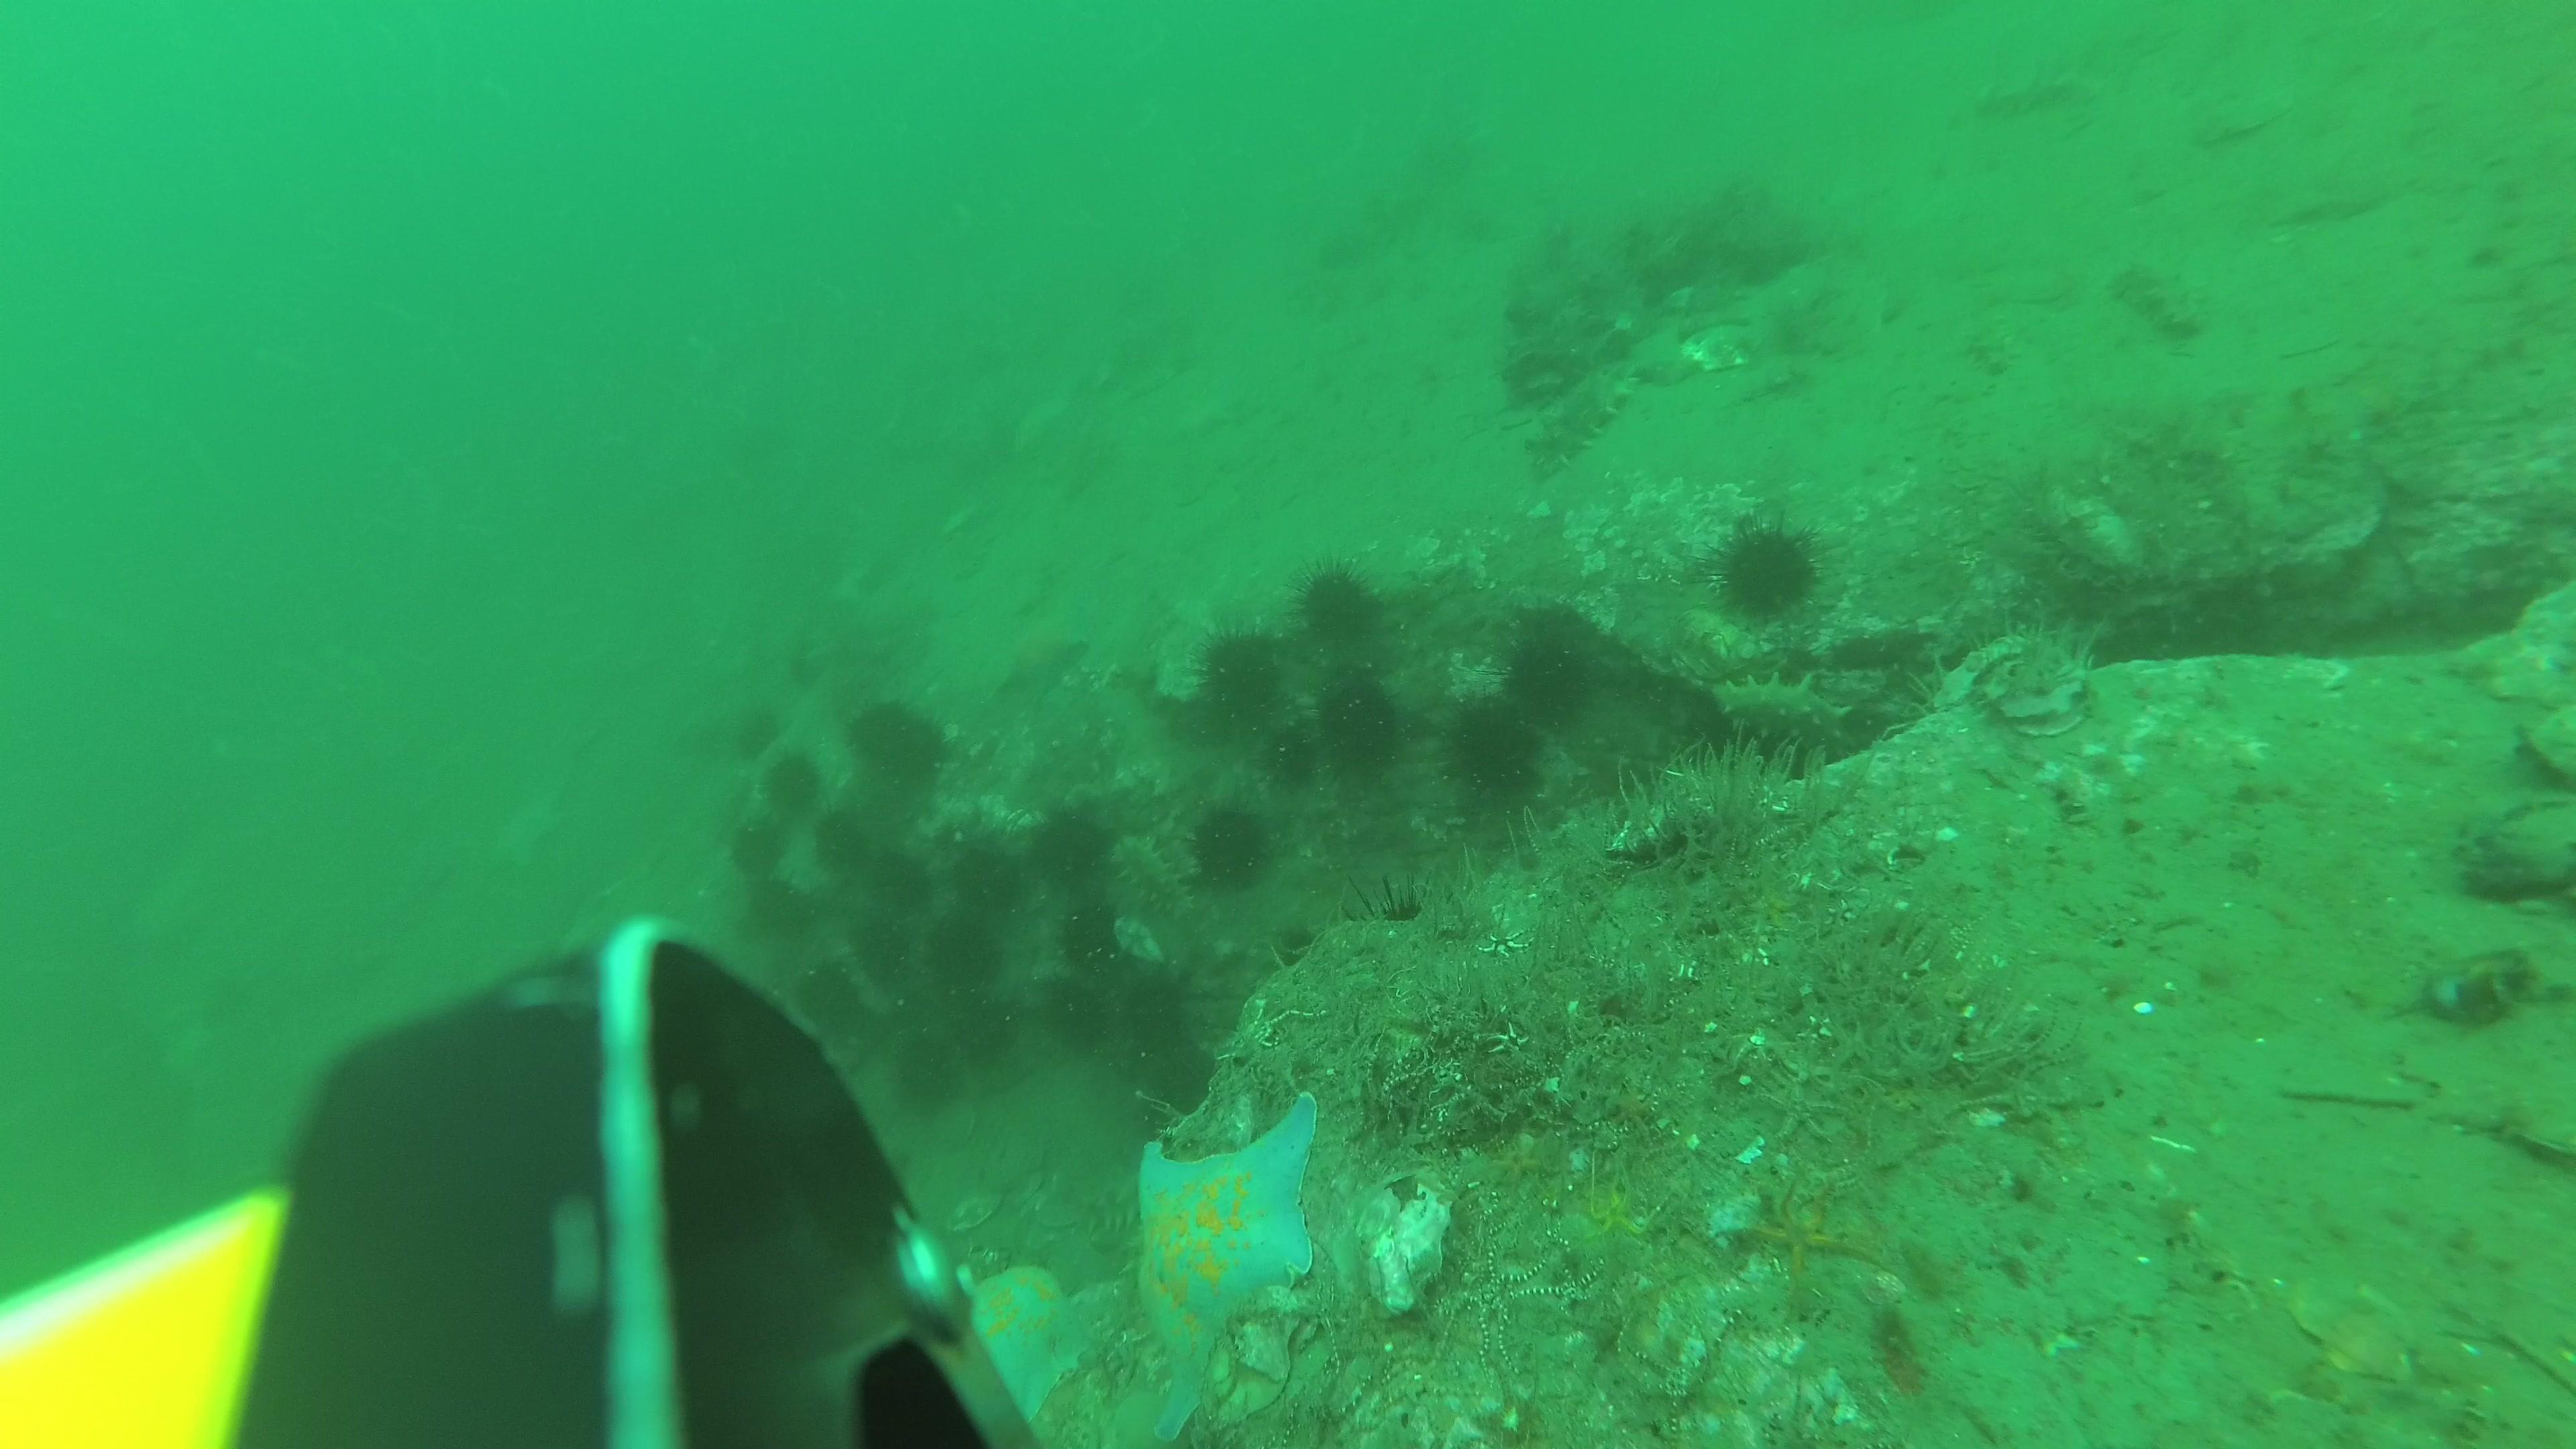echinus: (1709, 511, 1826, 633), (1438, 692, 1543, 812), (1350, 881, 1451, 978), (1198, 628, 1290, 734), (1315, 669, 1407, 773), (1506, 635, 1594, 732), (1292, 556, 1376, 656), (1108, 970, 1191, 1063), (1141, 1049, 1219, 1131), (925, 911, 1000, 996), (1194, 801, 1269, 885), (1033, 809, 1108, 888), (1040, 975, 1115, 1054), (798, 966, 870, 1040), (947, 994, 1019, 1065), (955, 839, 1021, 913), (892, 1035, 950, 1118), (1260, 727, 1325, 796), (761, 747, 816, 826), (853, 913, 908, 993), (1054, 897, 1113, 970), (846, 699, 908, 761), (892, 722, 950, 782), (1277, 927, 1336, 987), (878, 847, 932, 911), (752, 876, 801, 941), (819, 805, 867, 872), (727, 821, 780, 876), (731, 709, 777, 763)
holothurian: (1707, 672, 1856, 775), (1532, 357, 1642, 485), (2109, 255, 2204, 341), (1111, 833, 1203, 918), (1088, 1169, 1189, 1240), (1982, 69, 2093, 122), (1960, 320, 2013, 380)
scallop: (2293, 1274, 2419, 1382), (2212, 80, 2305, 143), (1683, 320, 1766, 375), (931, 1192, 1001, 1244), (927, 1099, 977, 1157)
starfish: (1139, 1083, 1322, 1442), (961, 1265, 1083, 1435), (1736, 1182, 1888, 1311), (996, 607, 1090, 711), (1583, 1164, 1658, 1246), (1491, 1136, 1546, 1196)
